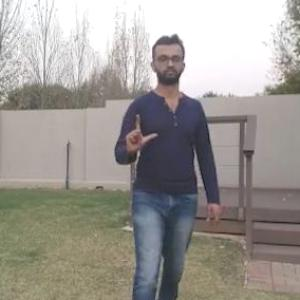land_hand: (120, 109, 160, 155)
